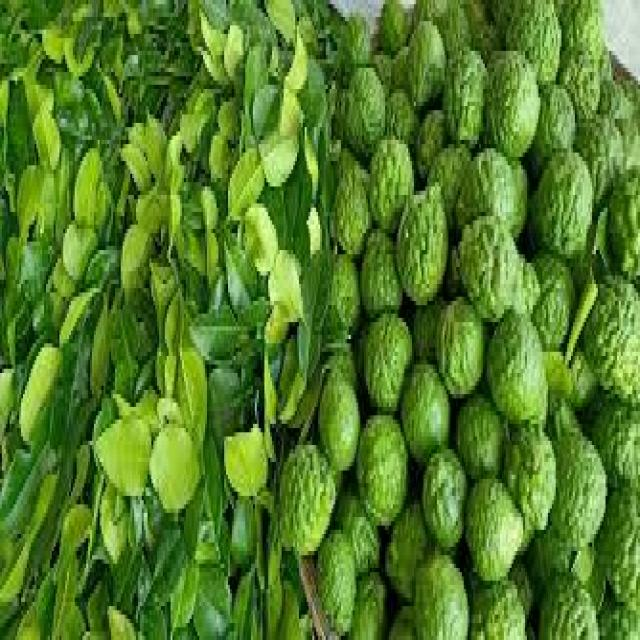Chuc: (493, 307, 552, 426), (276, 437, 335, 555), (395, 178, 448, 305), (588, 272, 640, 399), (351, 413, 410, 523), (452, 237, 531, 311), (434, 295, 485, 409), (316, 350, 358, 483), (313, 527, 360, 640), (464, 158, 527, 240), (534, 161, 594, 246), (413, 557, 474, 640), (509, 426, 558, 526), (508, 0, 563, 89), (469, 488, 521, 580), (560, 447, 607, 548), (404, 358, 448, 461), (532, 257, 575, 362), (492, 57, 541, 149), (608, 492, 640, 625), (428, 142, 476, 224), (374, 145, 417, 232), (344, 60, 381, 161), (426, 457, 467, 546), (337, 481, 379, 566), (609, 164, 640, 278), (457, 408, 502, 484), (409, 18, 447, 106), (338, 160, 371, 261), (456, 48, 488, 148), (546, 576, 596, 640), (322, 257, 361, 339), (393, 510, 432, 592), (478, 584, 533, 640), (599, 407, 639, 483), (366, 321, 408, 391), (585, 126, 618, 205), (369, 242, 400, 324), (562, 62, 603, 117), (532, 522, 565, 585), (421, 115, 451, 181), (566, 4, 595, 69), (540, 88, 568, 152), (336, 19, 371, 68), (374, 4, 412, 49), (382, 92, 416, 142)
